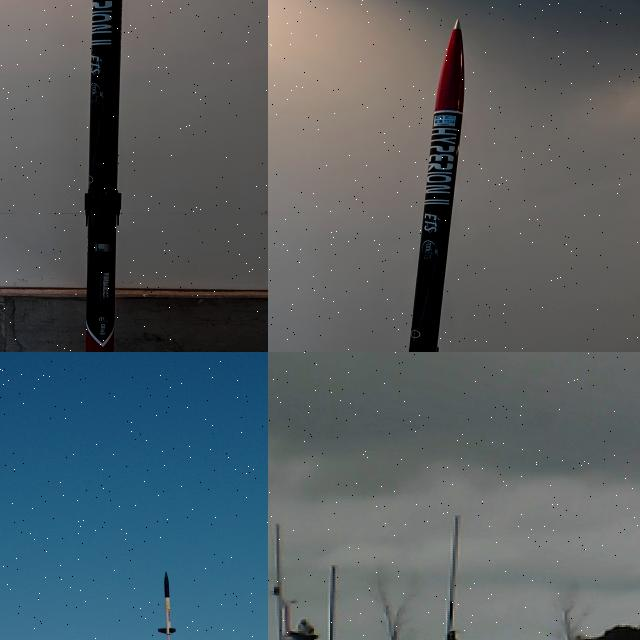Rocket: (409, 19, 465, 352), (85, 0, 123, 352), (157, 571, 177, 636)
